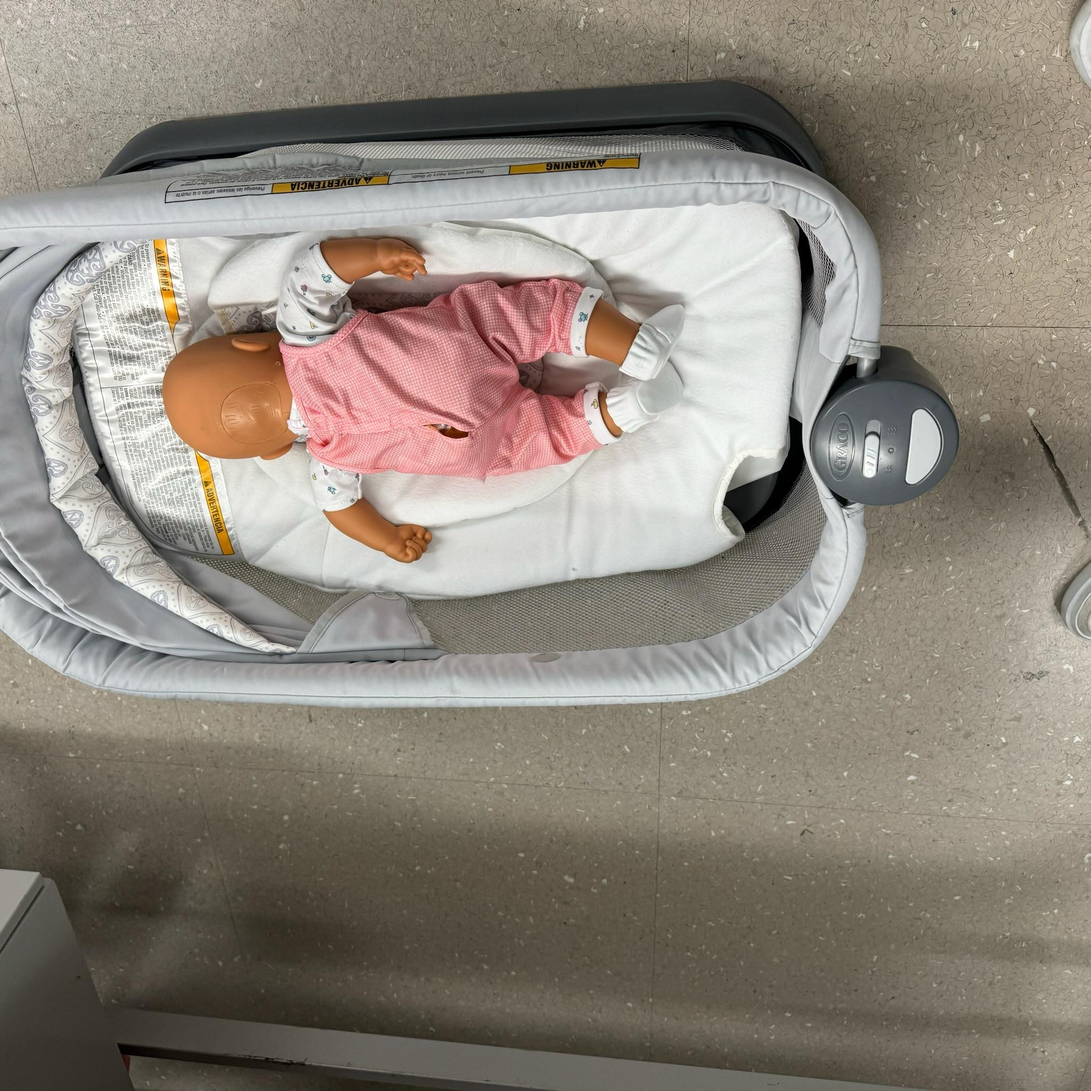baby: (150, 231, 696, 563)
